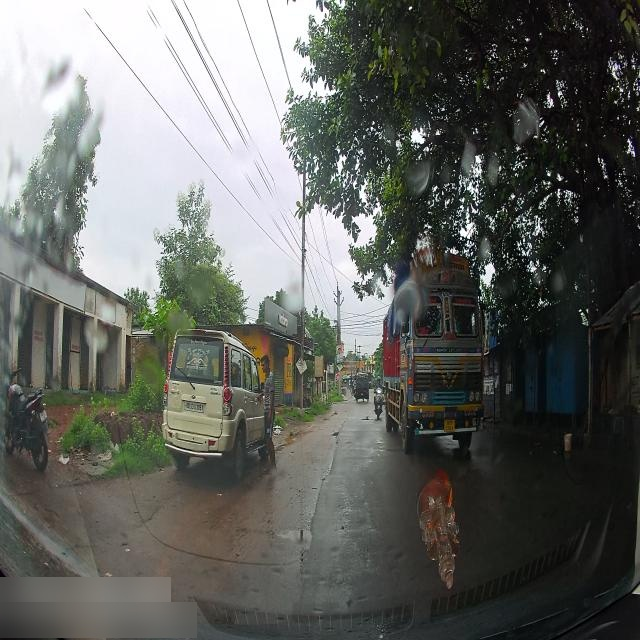pothole: (271, 526, 310, 546)
